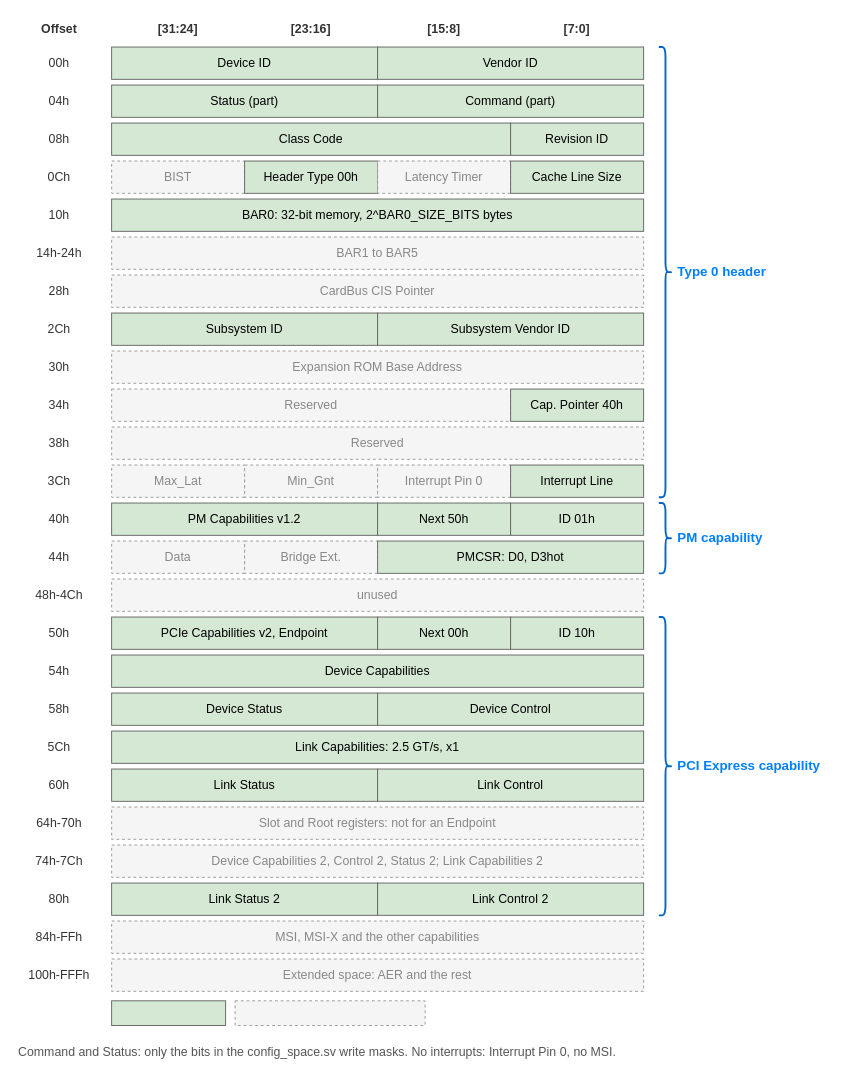
This 853x1087 diagram has some shape labels left out. Each missing label, with the centre of its shape:
implemented: (168,1013)
not implemented: reads 0: (329,1013)
